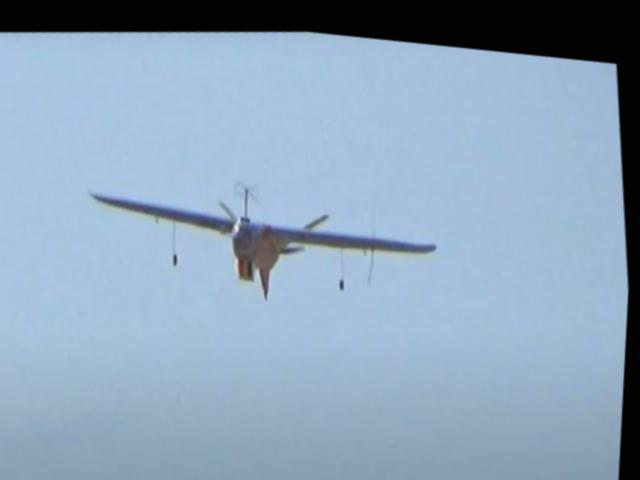iha: (77, 143, 467, 330)
